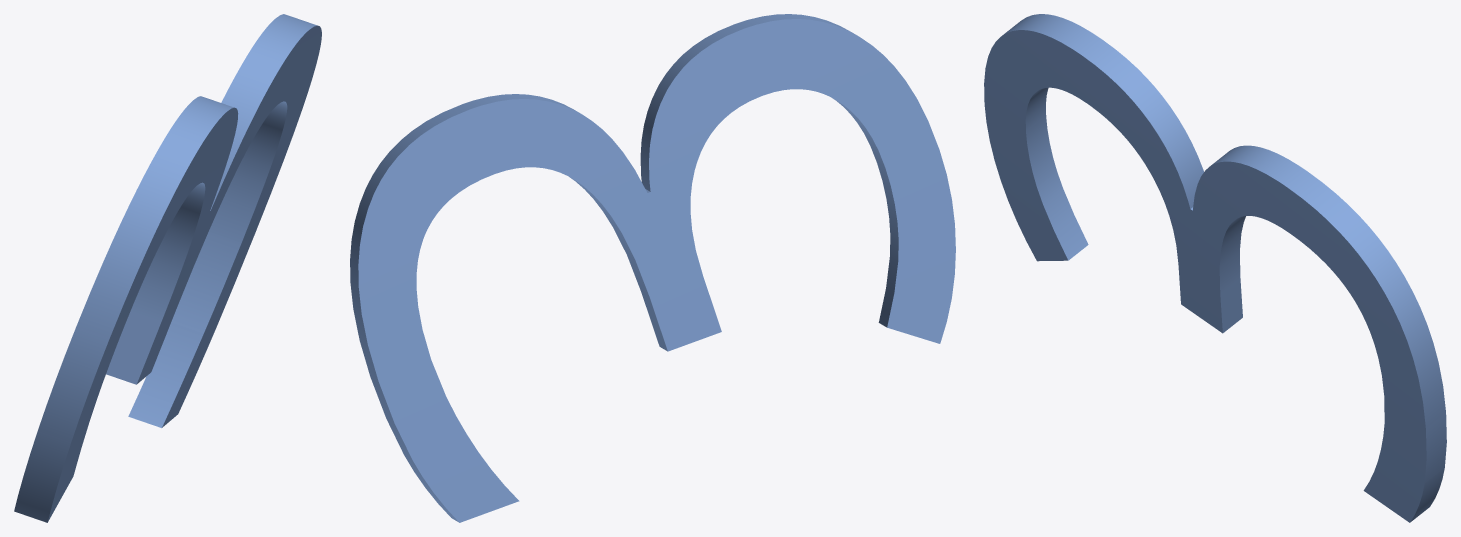
The model's file is New_Number_3.gltf.
3 renders of one model, left to right at view 1: azimuth 30°, elevation 25°; view 2: azimuth 150°, elevation 25°; view 3: azimuth 270°, elevation 25°, orthographic. The views are drawn at different scales.
Visible parts, largest first — view 1: Part 228; view 2: Part 228; view 3: Part 228.
Part boxes in pixels (<box>): Part 228: <box>14,14,321,522</box>; Part 228: <box>350,14,955,522</box>; Part 228: <box>984,14,1446,522</box>.
Bounding box in the file's own units: 0.0041 × 0.00388 × 0.00388.
